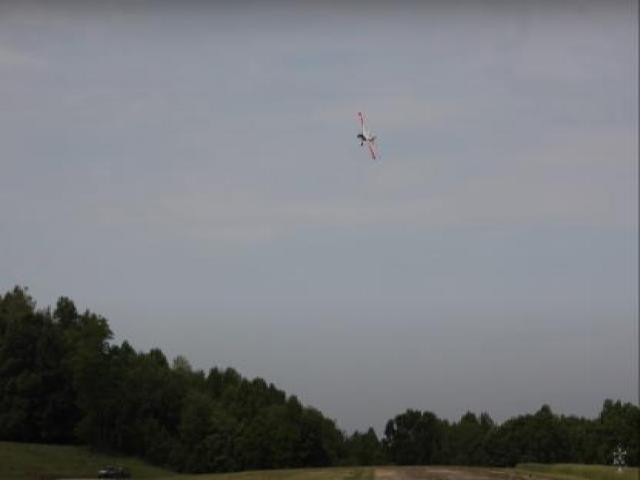uav: (352, 105, 380, 168)
